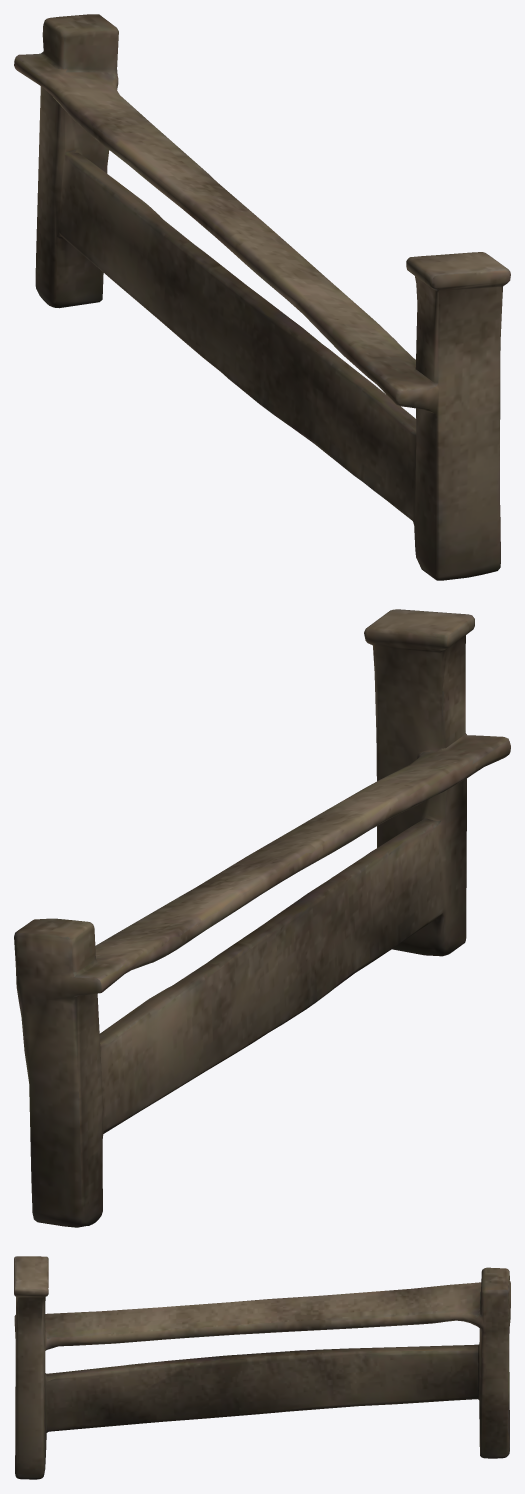
File: chipped-wood-barricade-v001.glb
3 renders of one model, top to bottom at view 1: azimuth 30°, elevation 25°; view 2: azimuth 150°, elevation 25°; view 3: azimuth 270°, elevation 25°, orthographic. The views are drawn at different scales.
Parts seen in each view (by area): view 1: chipped-wood-barricade; view 2: chipped-wood-barricade; view 3: chipped-wood-barricade.
Boxes of the visible parts, left/top/right/bottom form: chipped-wood-barricade: left=14, top=14, right=510, bottom=580; chipped-wood-barricade: left=14, top=609, right=510, bottom=1227; chipped-wood-barricade: left=14, top=1256, right=510, bottom=1479.
Bounding box in the file's own units: 0.3985 × 1.05 × 2.33.
Materials: 1 (1 with a texture image).
